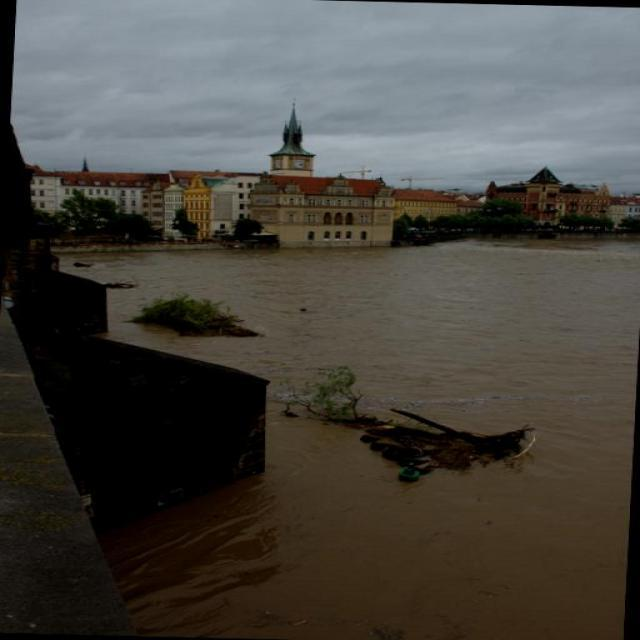flood: (48, 235, 639, 639)
